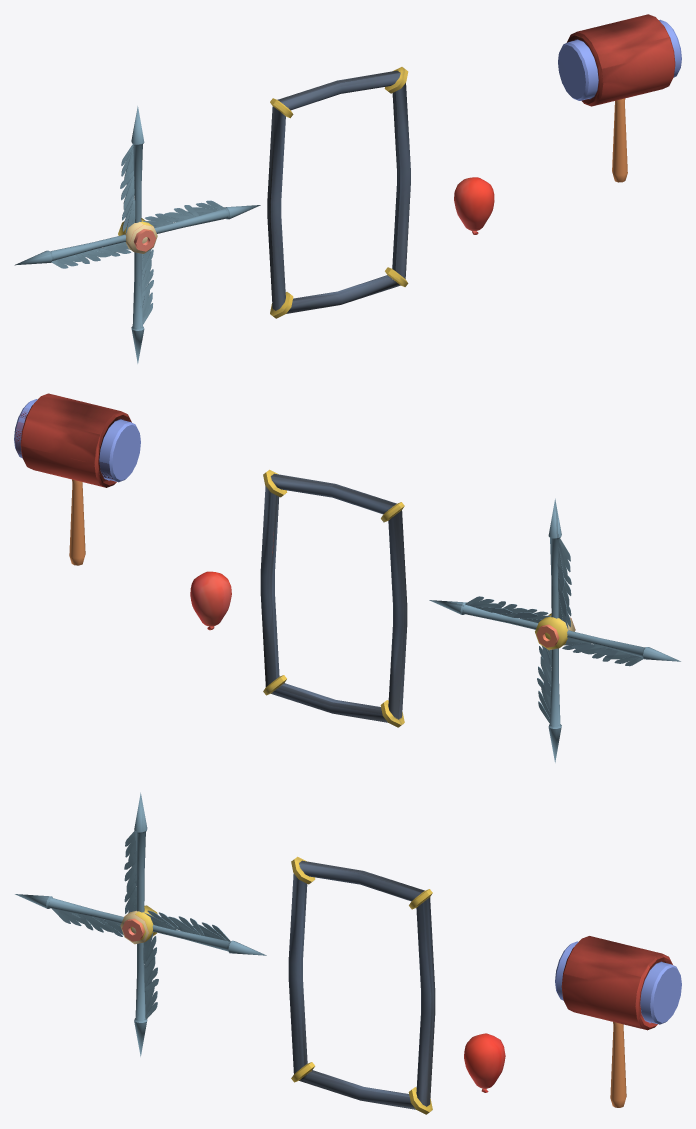
File: Level objects 2.fbx
3 renders of one model, top to bottom at view 1: azimuth 30°, elevation 25°; view 2: azimuth 150°, elevation 25°; view 3: azimuth 330°, elevation 25°, orthographic. The views are drawn at different scales.
Parts seen in each view (by area): view 1: wareframe, hammer, spikes, baloon; view 2: wareframe, hammer, spikes, baloon; view 3: wareframe, hammer, spikes, baloon.
Part boxes in pixels (x1,y1,x2,y2): wareframe: (267, 67, 410, 318); hammer: (558, 14, 681, 182); spikes: (14, 106, 260, 363); baloon: (454, 177, 494, 234); wareframe: (260, 469, 407, 727); hammer: (14, 393, 140, 565); spikes: (429, 498, 680, 762); baloon: (190, 571, 231, 630); wareframe: (288, 856, 435, 1114); hammer: (555, 936, 681, 1107); spikes: (15, 792, 266, 1056); baloon: (464, 1033, 505, 1092).
Size of the model in its own units: 1948 by 747 by 208.
Materials: 3 (3 with a texture image).
